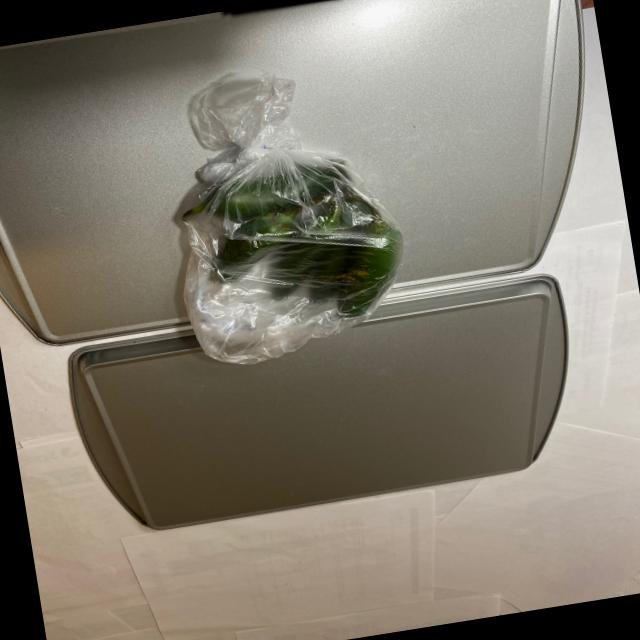chilli: (166, 126, 420, 356)
